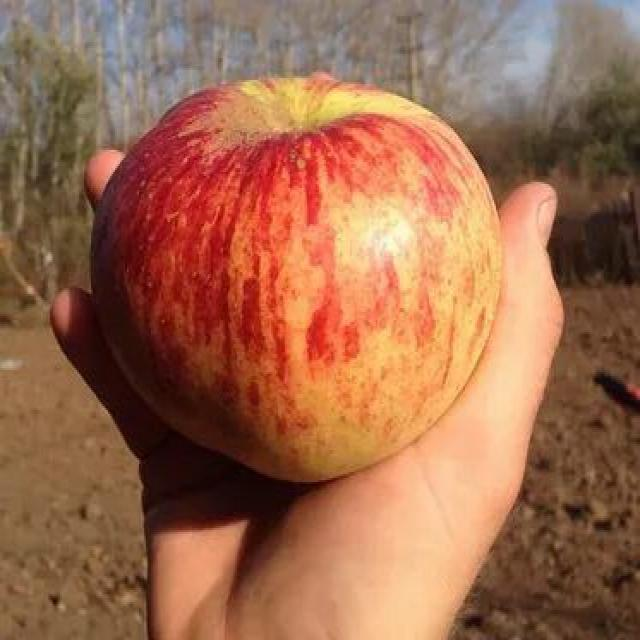Fresh Apple: (90, 74, 498, 468)
